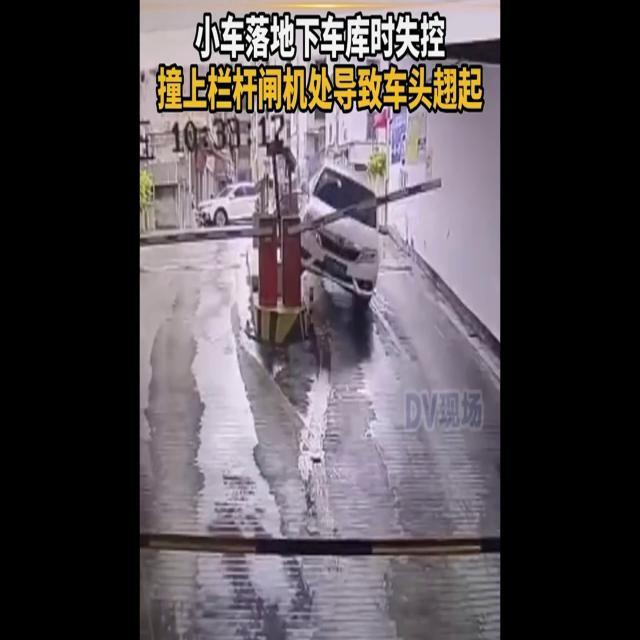single accident: (249, 130, 430, 329)
